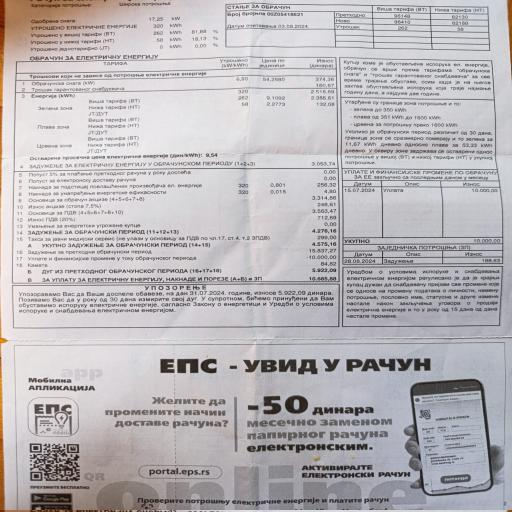racun_za_struju: (10, 50, 340, 171)
